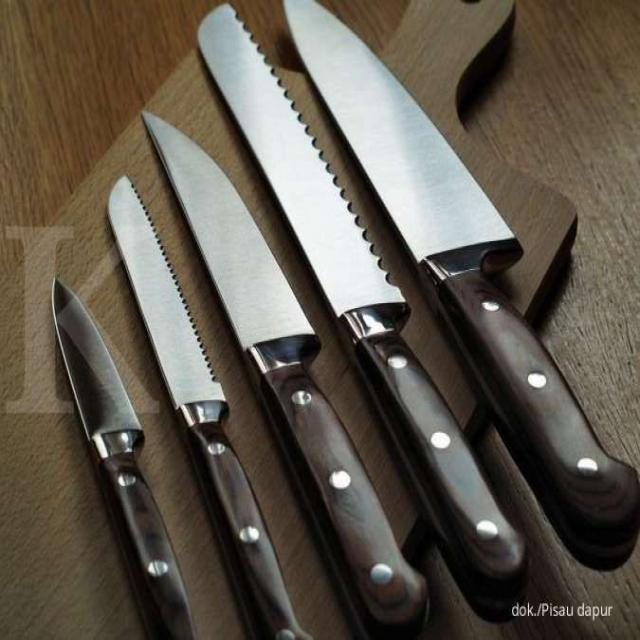Pisau: (131, 96, 423, 628)
